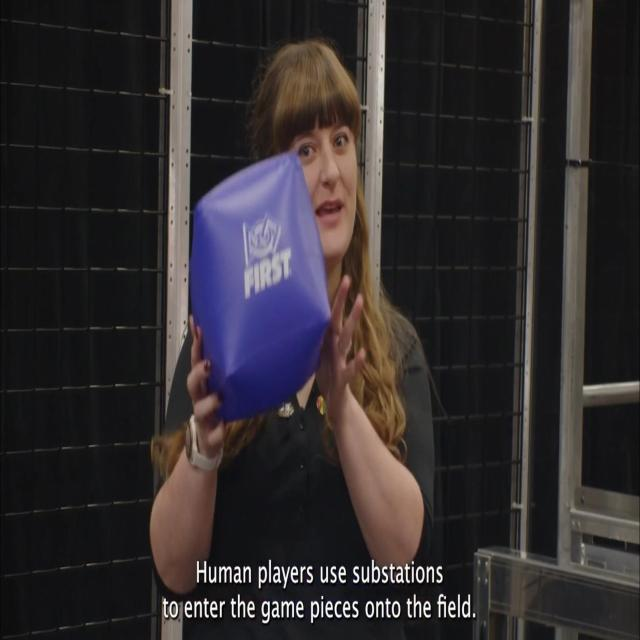frc_cube: (192, 152, 331, 420)
